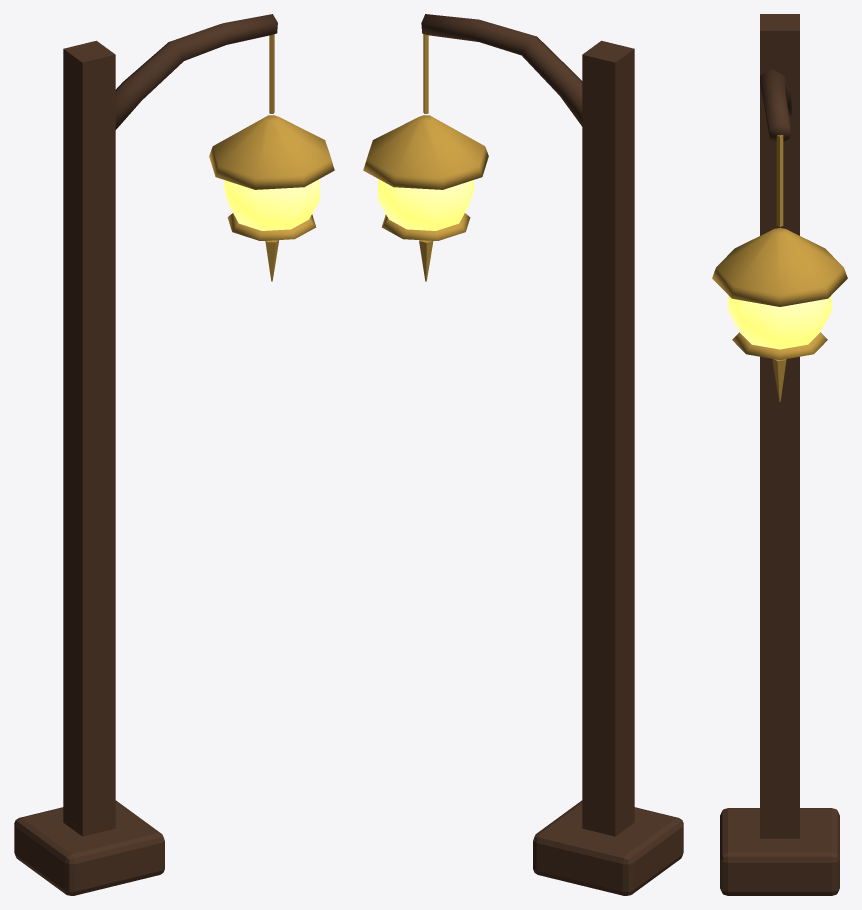
File: lentera.glb
3 renders of one model, left to right at view 1: azimuth 30°, elevation 25°; view 2: azimuth 150°, elevation 25°; view 3: azimuth 270°, elevation 25°, orthographic. The views are drawn at different scales.
Visible parts, largest first — view 1: lentera_mesh; view 2: lentera_mesh; view 3: lentera_mesh.
Boxes of the visible parts, x1,y1,x2,y2 form: lentera_mesh: (14,14,334,895); lentera_mesh: (363,14,683,895); lentera_mesh: (712,14,847,895).
Bounding box in the file's own units: 0.87 × 2.35 × 0.34.
